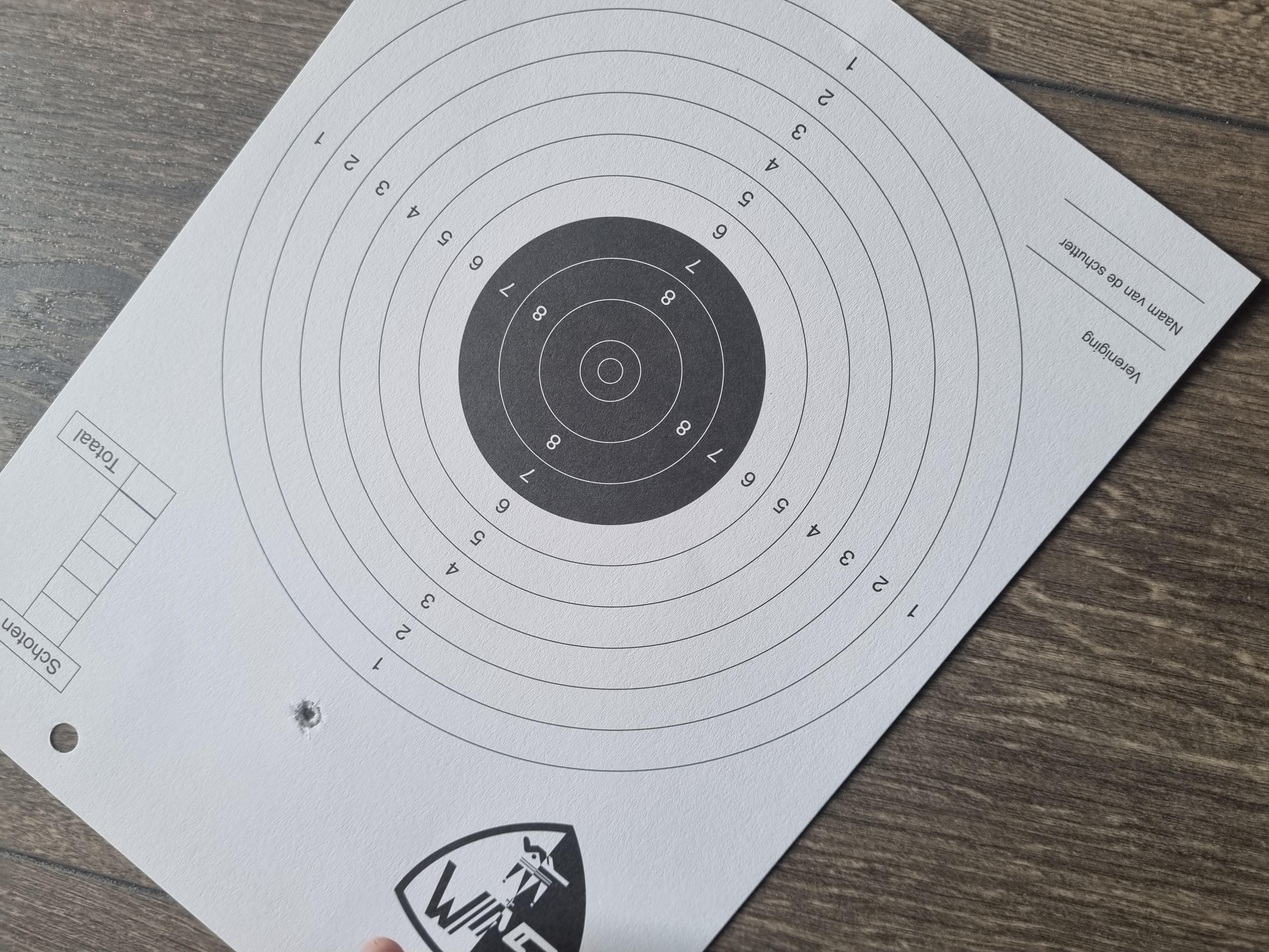hole: (290, 216, 339, 244)
